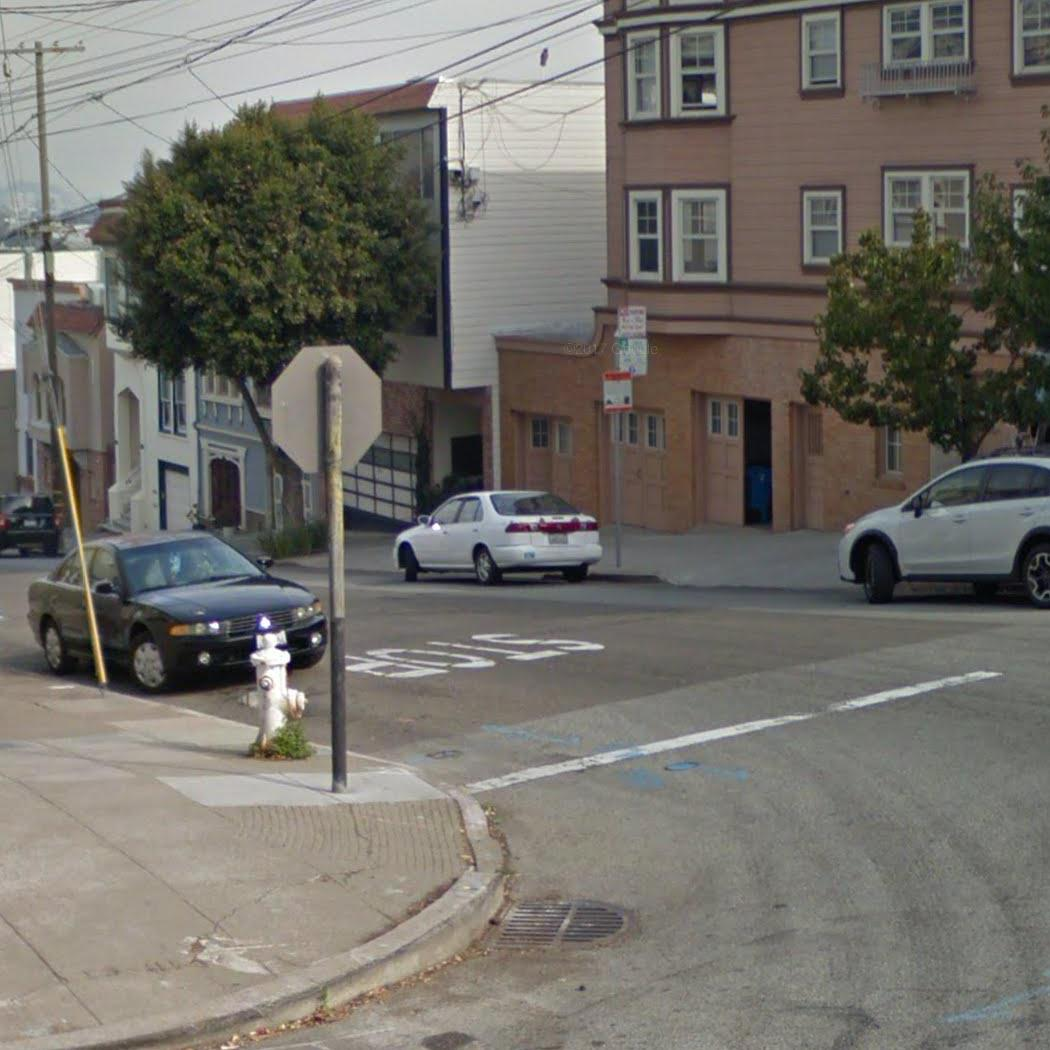2 Hour Parking: (613, 338, 651, 376)
No Parking: (616, 303, 648, 336)
